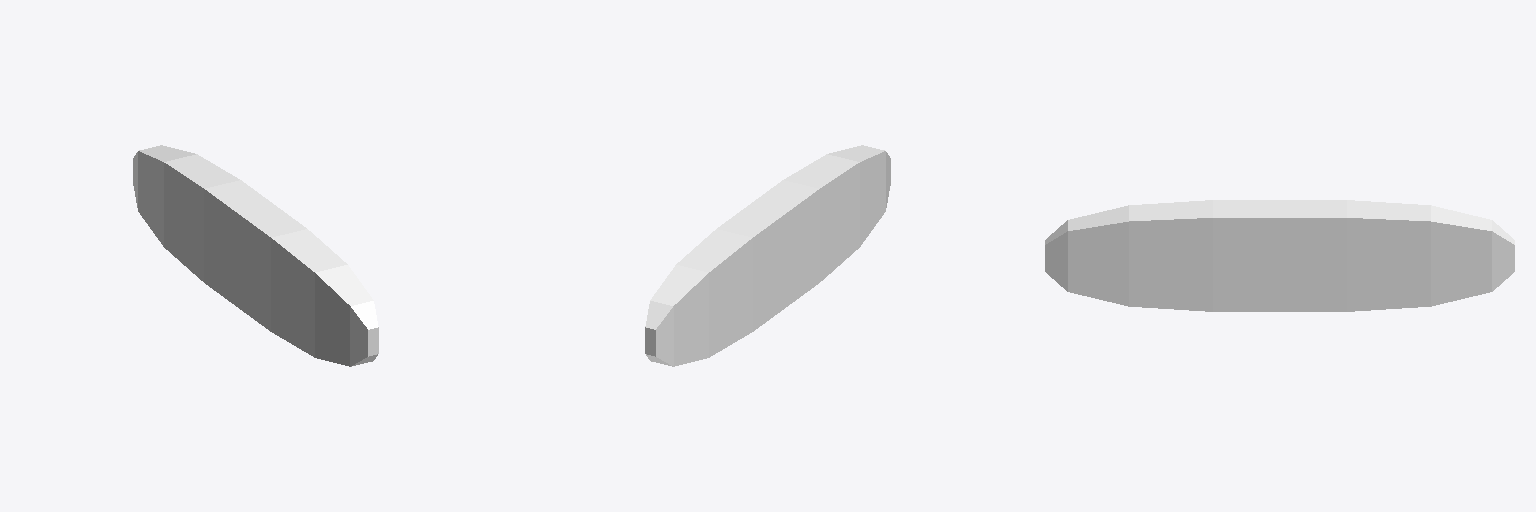
Rendered from Romance_sign.obj.
3 renders of one model, left to right at view 1: azimuth 30°, elevation 25°; view 2: azimuth 150°, elevation 25°; view 3: azimuth 270°, elevation 25°, orthographic.
Parts seen in each view (by area): view 1: Romance_Sign_Cube.037; view 2: Romance_Sign_Cube.037; view 3: Romance_Sign_Cube.037.
Boxes of the visible parts, <box> form: Romance_Sign_Cube.037: <box>133,145,378,366</box>; Romance_Sign_Cube.037: <box>645,145,890,366</box>; Romance_Sign_Cube.037: <box>1045,200,1514,311</box>.
Size of the model in its own units: 0.1795 by 0.4425 by 2.